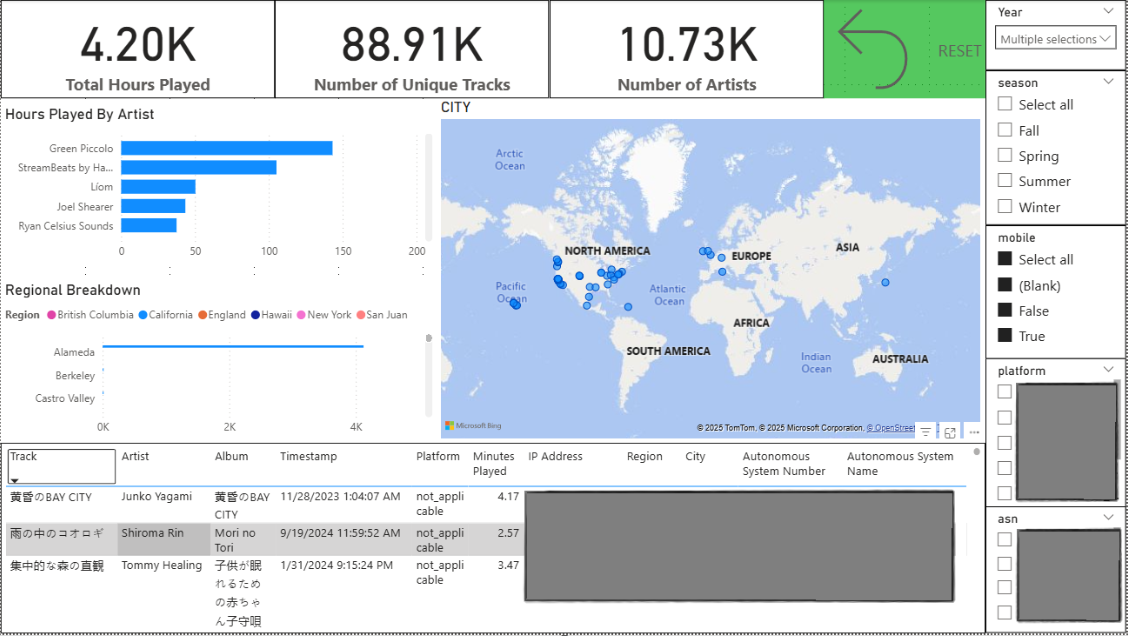

This screenshot's page, from the dashboard's own definition file:
{"tool":"powerbi","page":{"name":"Map","canvas":[1280,720],"ordinal":3},"visuals":[{"type":"map","fields":{"Category":["public ip_metadata.city"]},"box":[496,112,624,392],"z":0},{"type":"clusteredBarChart","title":"Hours Played By Artist","fields":{"Category":["public spotify_data.artist_name"],"Y":["public spotify_data.Total Hours Played"]},"box":[0,120,496,184],"z":1000},{"type":"card","fields":{"Values":["public spotify_data.Total Hours Played"]},"box":[0,0,312,112],"z":2000},{"type":"card","fields":{"Values":["public spotify_data.spotify_track_uri"]},"box":[312,0,312,112],"z":3000},{"type":"card","fields":{"Values":["public sd_artists_join.artist_name"]},"box":[624,0,312,112],"z":4000},{"type":"slicer","fields":{"Values":["public temp_longest_listening_days.platform"]},"box":[1120,408,160,176],"z":5000},{"type":"slicer","fields":{"Values":["public ip_metadata.asn"]},"box":[1120,576,160,144],"z":6000},{"type":"slicer","fields":{"Values":["public spotify_data.season"]},"box":[1120,80,160,176],"z":7000},{"type":"slicer","fields":{"Values":["public spotify_data.timestamp_column.Variation.Date Hierarchy.Year"]},"box":[1120,0,160,80],"z":8000},{"type":"tableEx","fields":{"Values":["public spotify_data.track_name","public spotify_data.artist_name","public spotify_data.album_name","public spotify_data.timestamp_column","public spotify_data.platform","public spotify_data.Minutes Played","public spotify_data.ip_addr","public ip_metadata.region_name","public ip_metadata.city","public ip_metadata.asn","public ip_metadata.asname"]},"box":[0,504,1120,216],"z":9000},{"type":"actionButton","box":[936,0,184,112],"z":10000},{"type":"slicer","fields":{"Values":["public ip_metadata.mobile"]},"box":[1120,256,160,152],"z":11000},{"type":"clusteredBarChart","title":"Regional Breakdown","fields":{"Y":["public spotify_data.Total Hours Played"],"Category":["public ip_metadata.city"],"Series":["public ip_metadata.region_name"]},"box":[0,320,496,184],"z":11001}]}

Visuals, with their boxes on the page's 1280x720 design canvas (x1, y1, x2, y2). These are canvas units, not pixel positions in the 1128x636 screenshot, which may show the page scaled, cropped or inside an application window:
map - public ip_metadata.city: l=496, t=112, r=1120, b=504
"Hours Played By Artist" clusteredBarChart: l=0, t=120, r=496, b=304
card - public spotify_data.Total Hours Played: l=0, t=0, r=312, b=112
card - public spotify_data.spotify_track_uri: l=312, t=0, r=624, b=112
card - public sd_artists_join.artist_name: l=624, t=0, r=936, b=112
slicer - public temp_longest_listening_days.platform: l=1120, t=408, r=1280, b=584
slicer - public ip_metadata.asn: l=1120, t=576, r=1280, b=720
slicer - public spotify_data.season: l=1120, t=80, r=1280, b=256
slicer - public spotify_data.timestamp_column.Variation.Date Hierarchy.Year: l=1120, t=0, r=1280, b=80
tableEx - public spotify_data.track_name x public spotify_data.artist_name: l=0, t=504, r=1120, b=720
actionButton: l=936, t=0, r=1120, b=112
slicer - public ip_metadata.mobile: l=1120, t=256, r=1280, b=408
"Regional Breakdown" clusteredBarChart: l=0, t=320, r=496, b=504
